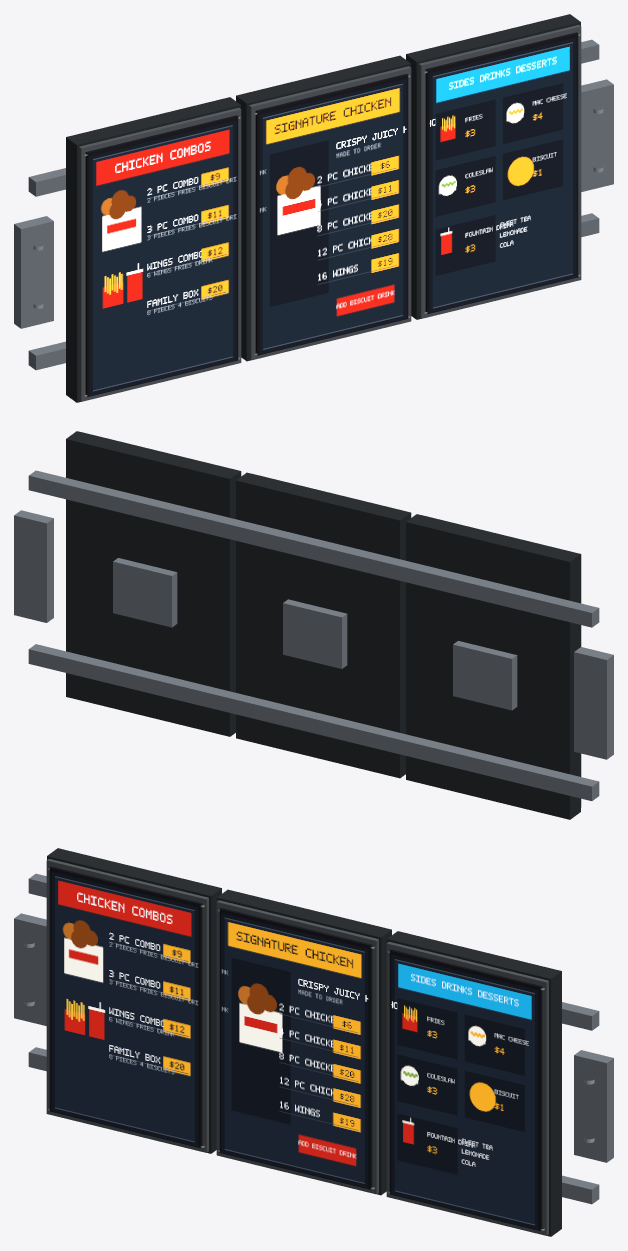
Rendered from prop_chicken_spot_triple_digital_menu_v01.glb.
3 views of the same model, one above another, from view 1: azimuth 30°, elevation 25°; view 2: azimuth 150°, elevation 25°; view 3: azimuth 330°, elevation 25° (orthographic).
Visible parts, largest first — view 1: Screen_Combos, Screen_SidesDrinksDesserts, Screen_SignatureChicken, Screen_Combos_Housing, Screen_Combos_Outer_Bezel, Screen_SignatureChicken_Outer_Bezel, Screen_SidesDrinksDesserts_Outer_Bezel, Screen_SignatureChicken_Housing, Screen_SidesDrinksDesserts_Housing, Mount_Wing_Left, Mount_Wing_Right, Screen_SignatureChicken_Inner_Bezel (+4 smaller); view 2: Screen_Combos_Housing, Screen_SignatureChicken_Housing, Screen_SidesDrinksDesserts_Housing, Mount_Rail_Upper, Mount_Rail_Lower, Mount_Wing_Right, Mount_Wing_Left, Screen_Combos_Rear_Mount_Plate, Screen_SidesDrinksDesserts_Rear_Mount_Plate, Screen_SignatureChicken_Rear_Mount_Plate; view 3: Screen_Combos, Screen_SidesDrinksDesserts, Screen_SignatureChicken, Screen_SidesDrinksDesserts_Housing, Screen_SidesDrinksDesserts_Outer_Bezel, Screen_SignatureChicken_Outer_Bezel, Screen_Combos_Outer_Bezel, Screen_SignatureChicken_Housing, Screen_Combos_Housing, Mount_Wing_Right, Mount_Wing_Left, Screen_Combos_Inner_Bezel (+4 smaller).
Boxes of the visible parts, box(x1,y1,x2,y2) form: Screen_Combos: box(89, 120, 236, 395); Screen_SidesDrinksDesserts: box(429, 37, 576, 312); Screen_SignatureChicken: box(259, 79, 406, 354); Screen_Combos_Housing: box(66, 97, 240, 402); Screen_Combos_Outer_Bezel: box(79, 107, 241, 401); Screen_SignatureChicken_Outer_Bezel: box(249, 66, 411, 360); Screen_SidesDrinksDesserts_Outer_Bezel: box(419, 25, 581, 318); Screen_SignatureChicken_Housing: box(236, 55, 410, 361); Screen_SidesDrinksDesserts_Housing: box(406, 14, 580, 319); Mount_Wing_Left: box(14, 216, 53, 328); Mount_Wing_Right: box(581, 79, 613, 191); Screen_SignatureChicken_Inner_Bezel: box(255, 74, 408, 355); Screen_Combos_Housing: box(406, 514, 580, 819); Screen_SignatureChicken_Housing: box(236, 472, 410, 778); Screen_SidesDrinksDesserts_Housing: box(66, 431, 240, 736); Mount_Rail_Upper: box(28, 470, 599, 627); Mount_Rail_Lower: box(28, 644, 599, 800); Mount_Wing_Right: box(14, 510, 53, 622); Mount_Wing_Left: box(574, 647, 613, 759); Screen_Combos_Rear_Mount_Plate: box(453, 641, 517, 710); Screen_SidesDrinksDesserts_Rear_Mount_Plate: box(113, 558, 177, 627); Screen_SignatureChicken_Rear_Mount_Plate: box(283, 599, 347, 668); Screen_Combos: box(51, 871, 198, 1146); Screen_SidesDrinksDesserts: box(391, 954, 538, 1229); Screen_SignatureChicken: box(221, 913, 368, 1188); Screen_SidesDrinksDesserts_Housing: box(387, 931, 561, 1236); Screen_SidesDrinksDesserts_Outer_Bezel: box(386, 941, 548, 1235); Screen_SignatureChicken_Outer_Bezel: box(216, 900, 378, 1194); Screen_Combos_Outer_Bezel: box(46, 859, 208, 1152); Screen_SignatureChicken_Housing: box(217, 889, 391, 1195); Screen_Combos_Housing: box(47, 848, 221, 1153); Mount_Wing_Right: box(574, 1050, 613, 1162); Mount_Wing_Left: box(14, 913, 46, 1025); Screen_Combos_Inner_Bezel: box(49, 866, 202, 1148).
Size of the model in its own units: 3.61 by 1.5 by 0.2385.
Materials: 6 (1 with a texture image).
